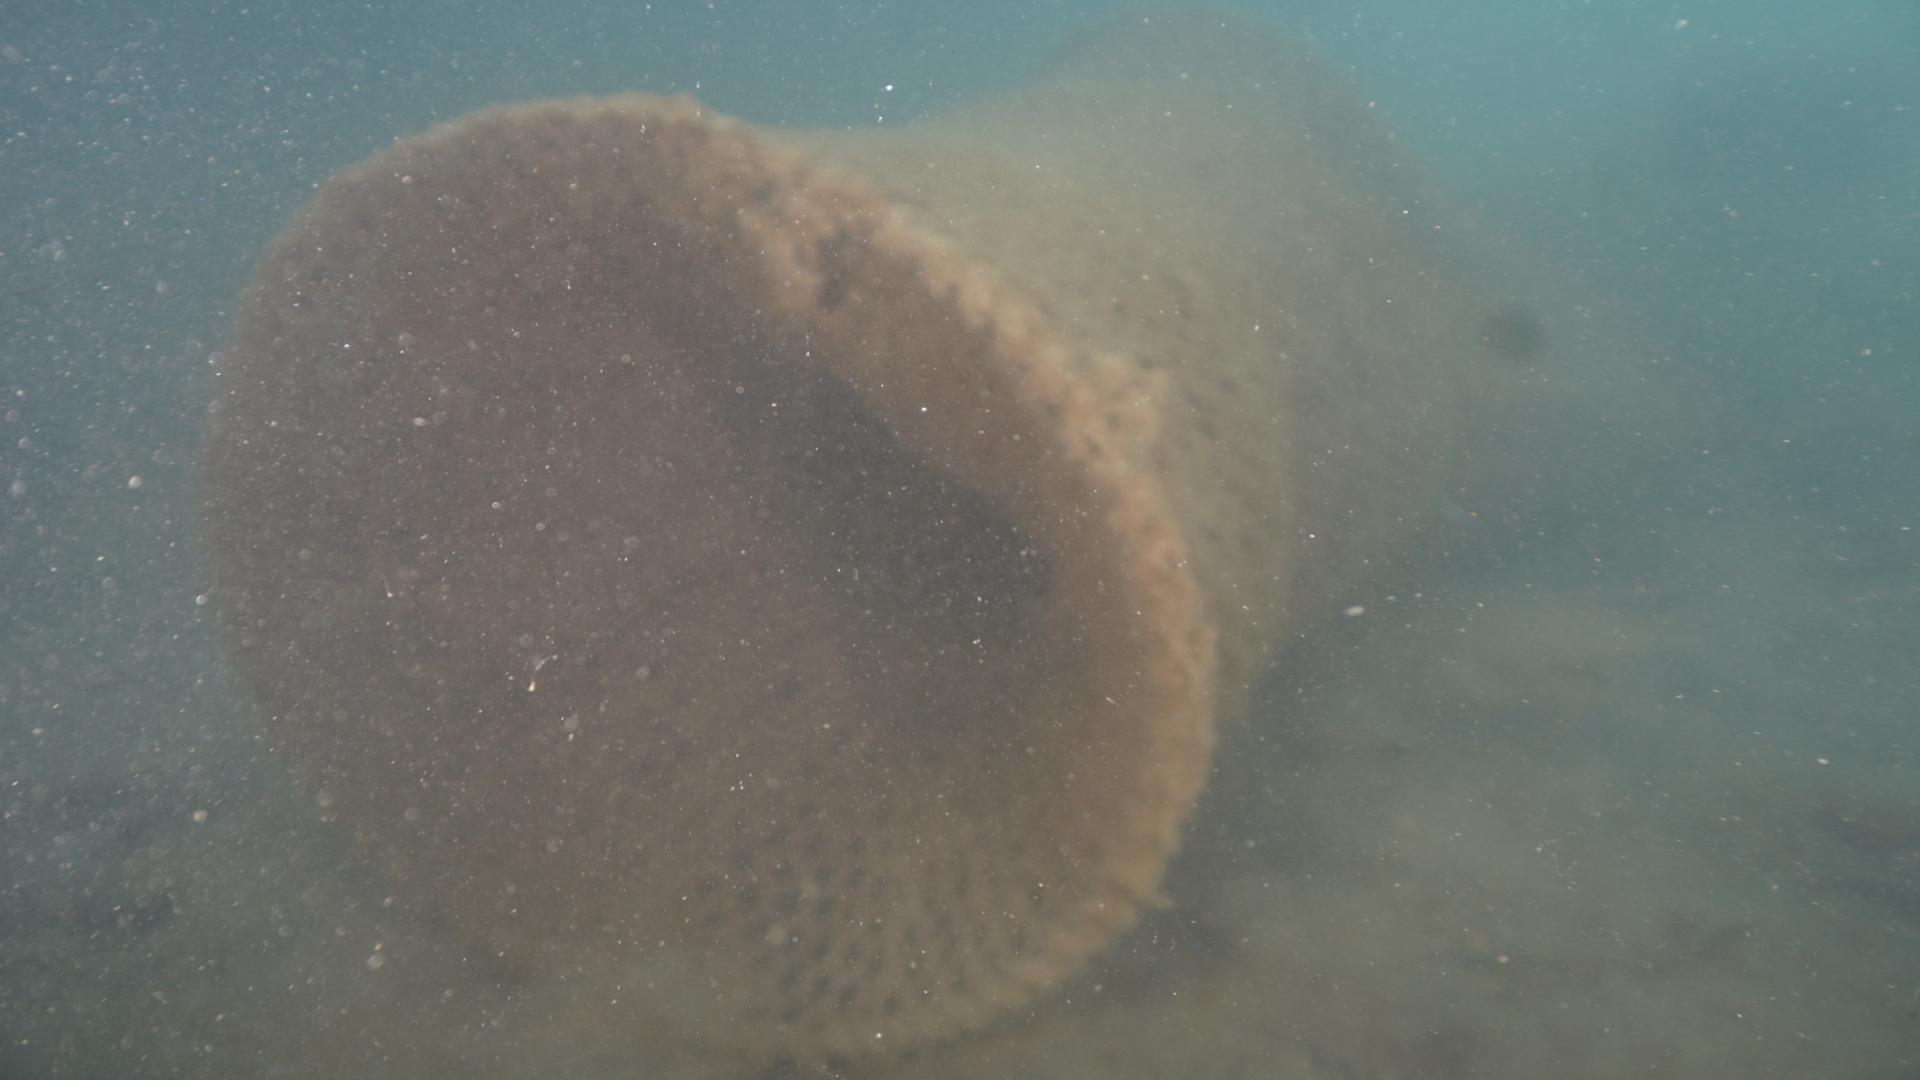spring fish trap: (196, 3, 1499, 1058)
